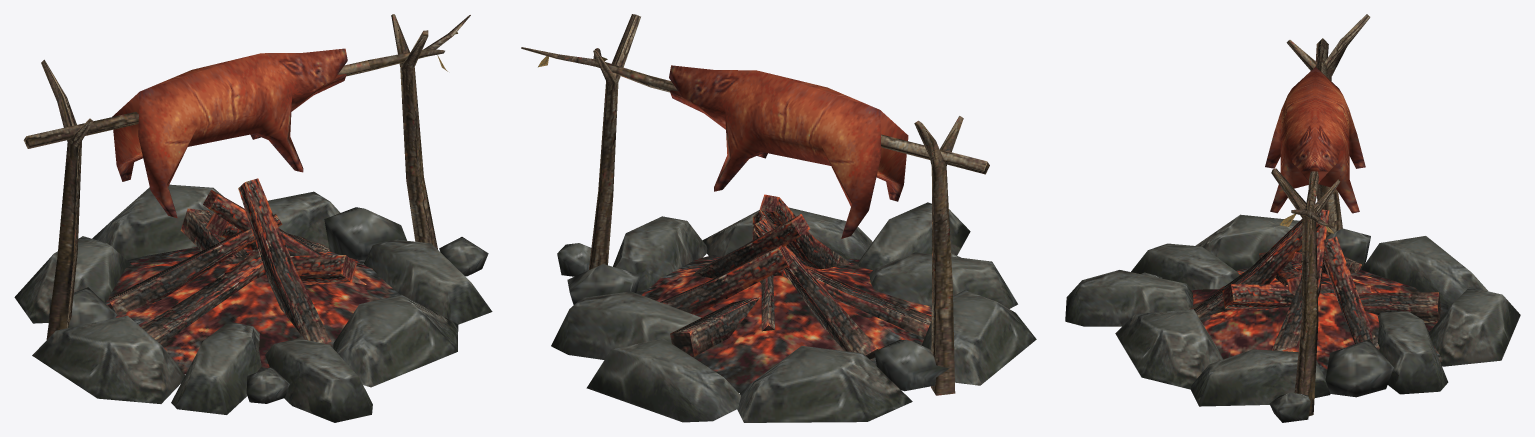
Rendered from SC_yonghengsenlin_FB01_05.FBX.
3 renders of one model, left to right at view 1: azimuth 30°, elevation 25°; view 2: azimuth 150°, elevation 25°; view 3: azimuth 270°, elevation 25°, orthographic. The views are drawn at different scales.
Parts seen in each view (by area): view 1: SC_yonghengsenlin_FB01_05; view 2: SC_yonghengsenlin_FB01_05; view 3: SC_yonghengsenlin_FB01_05.
Part boxes in pixels (x1,y1,x2,y2): SC_yonghengsenlin_FB01_05: (14, 14, 492, 422); SC_yonghengsenlin_FB01_05: (521, 14, 1036, 422); SC_yonghengsenlin_FB01_05: (1065, 14, 1520, 422).
Size of the model in its own units: 265 by 159 by 261.
